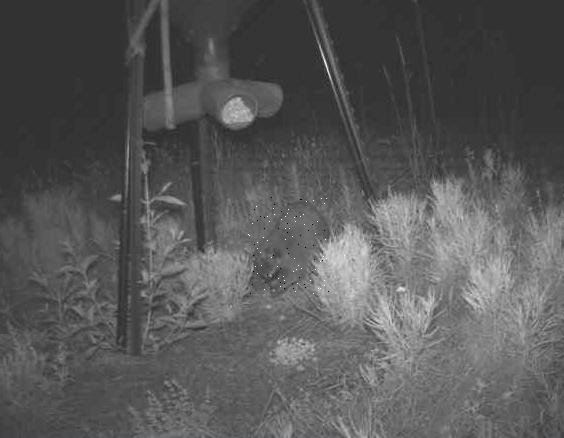Raccoon: (248, 197, 329, 296)
